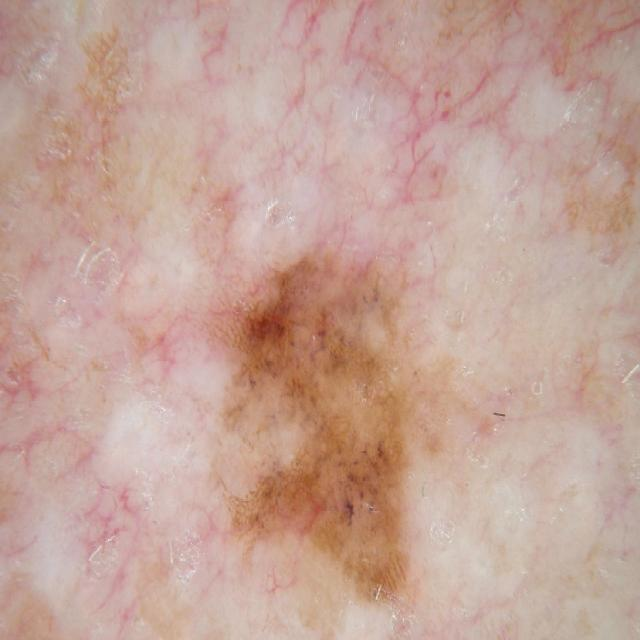Melanoma: (200, 193, 463, 640)
